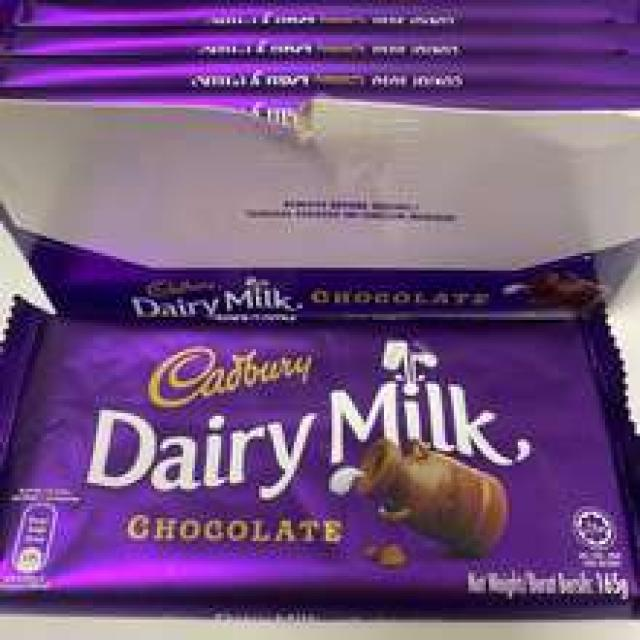cadbury: (4, 309, 640, 622)
